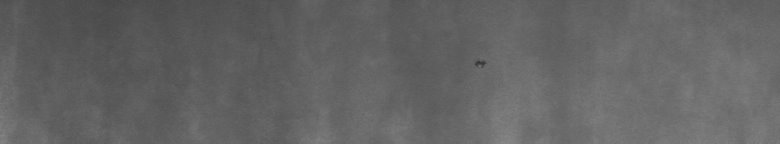fi: (474, 52, 487, 72)
